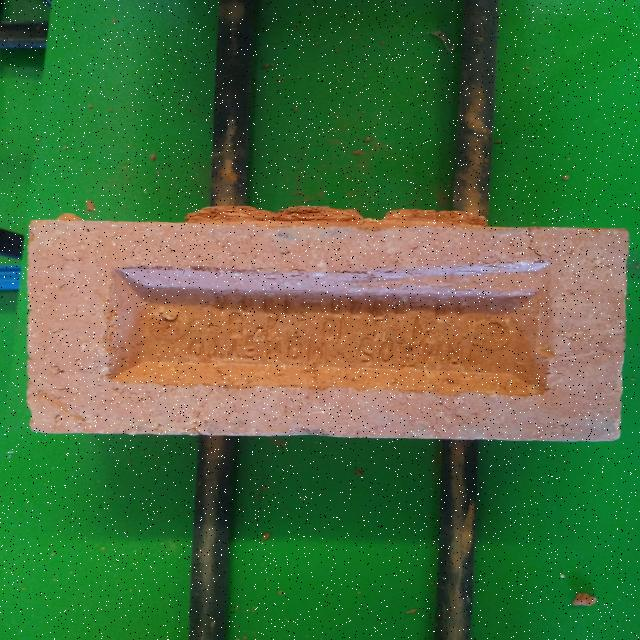bricks_ruin: (25, 204, 630, 440)
